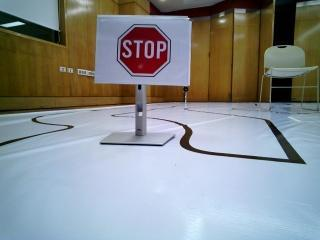stop: (105, 20, 188, 84)
